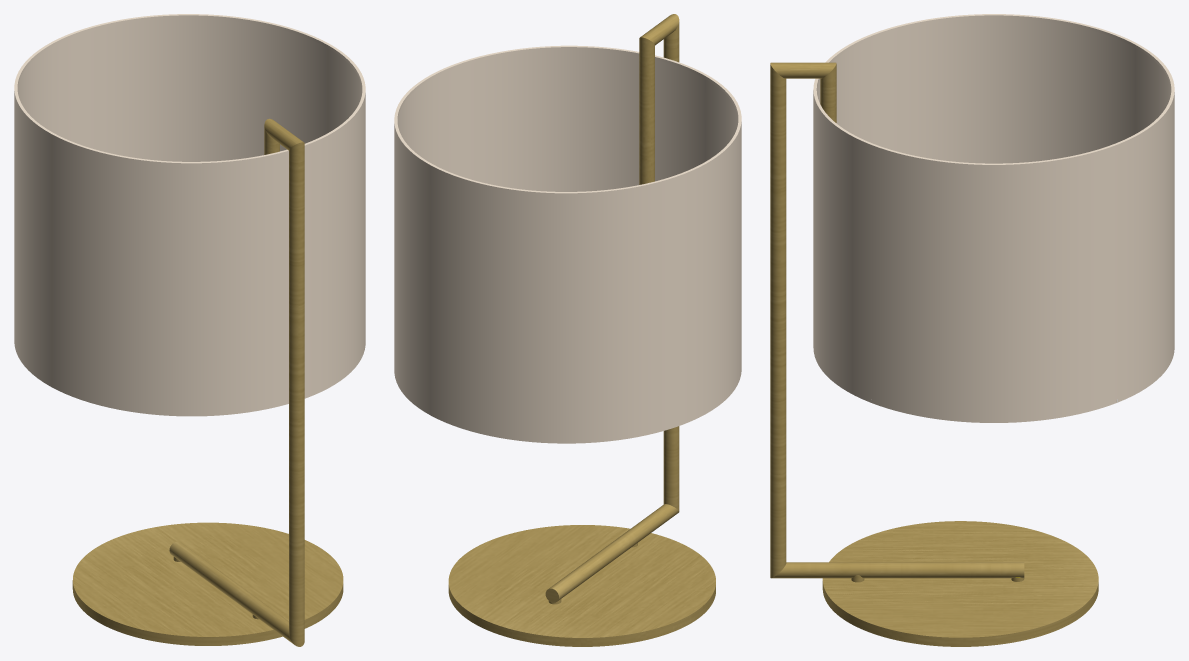
File: ABD+Charlotte.fbx
The picture shows the model from 3 angles, left to right: view 1: azimuth 30°, elevation 25°; view 2: azimuth 150°, elevation 25°; view 3: azimuth 270°, elevation 25°; orthographic projection. The views are drawn at different scales.
Parts seen in each view (by area): view 1: Group8, Group6, Group7; view 2: Group8, Group6, Group7; view 3: Group8, Group6, Group7.
Boxes of the visible parts, x1,y1,x2,y2 form: Group8: [14, 14, 365, 416]; Group6: [72, 522, 343, 645]; Group7: [169, 118, 304, 646]; Group8: [394, 45, 741, 443]; Group6: [448, 525, 715, 646]; Group7: [545, 14, 679, 602]; Group8: [813, 14, 1174, 422]; Group6: [822, 521, 1098, 646]; Group7: [770, 62, 1024, 578].
Bounding box in the file's own units: 356 × 577 × 403.
